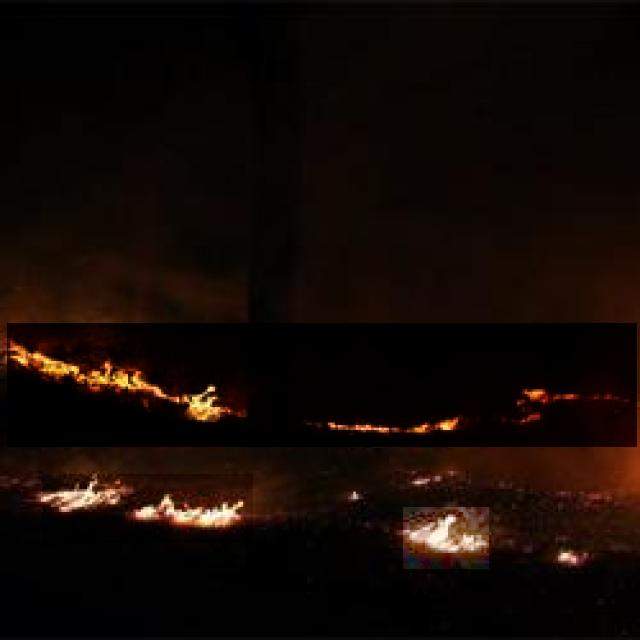Fire: (7, 323, 637, 447), (42, 474, 253, 543), (403, 507, 489, 569)
